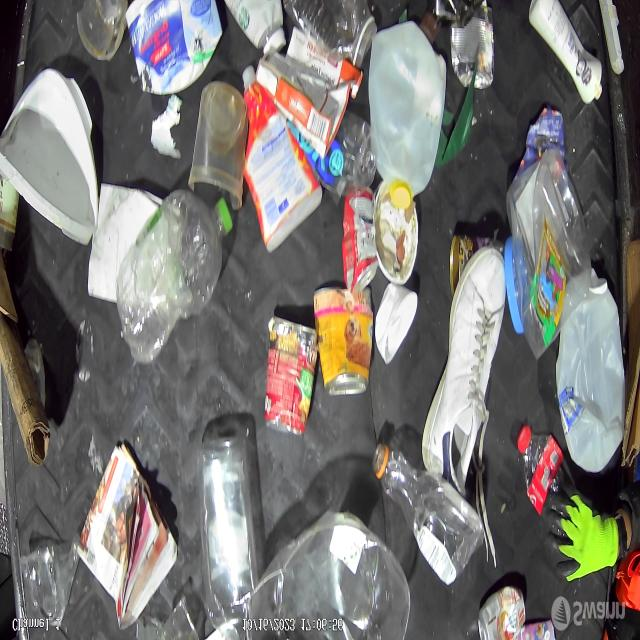can: (264, 314, 319, 438), (312, 288, 374, 398), (341, 185, 378, 293), (454, 12, 492, 93), (476, 581, 528, 640)
milk_jug: (365, 29, 444, 216), (560, 258, 628, 468)
non_white_jug: (240, 61, 322, 244)
plastic_bottle: (252, 513, 412, 640), (114, 206, 230, 366), (504, 146, 590, 356), (372, 444, 484, 583), (199, 418, 259, 638)
